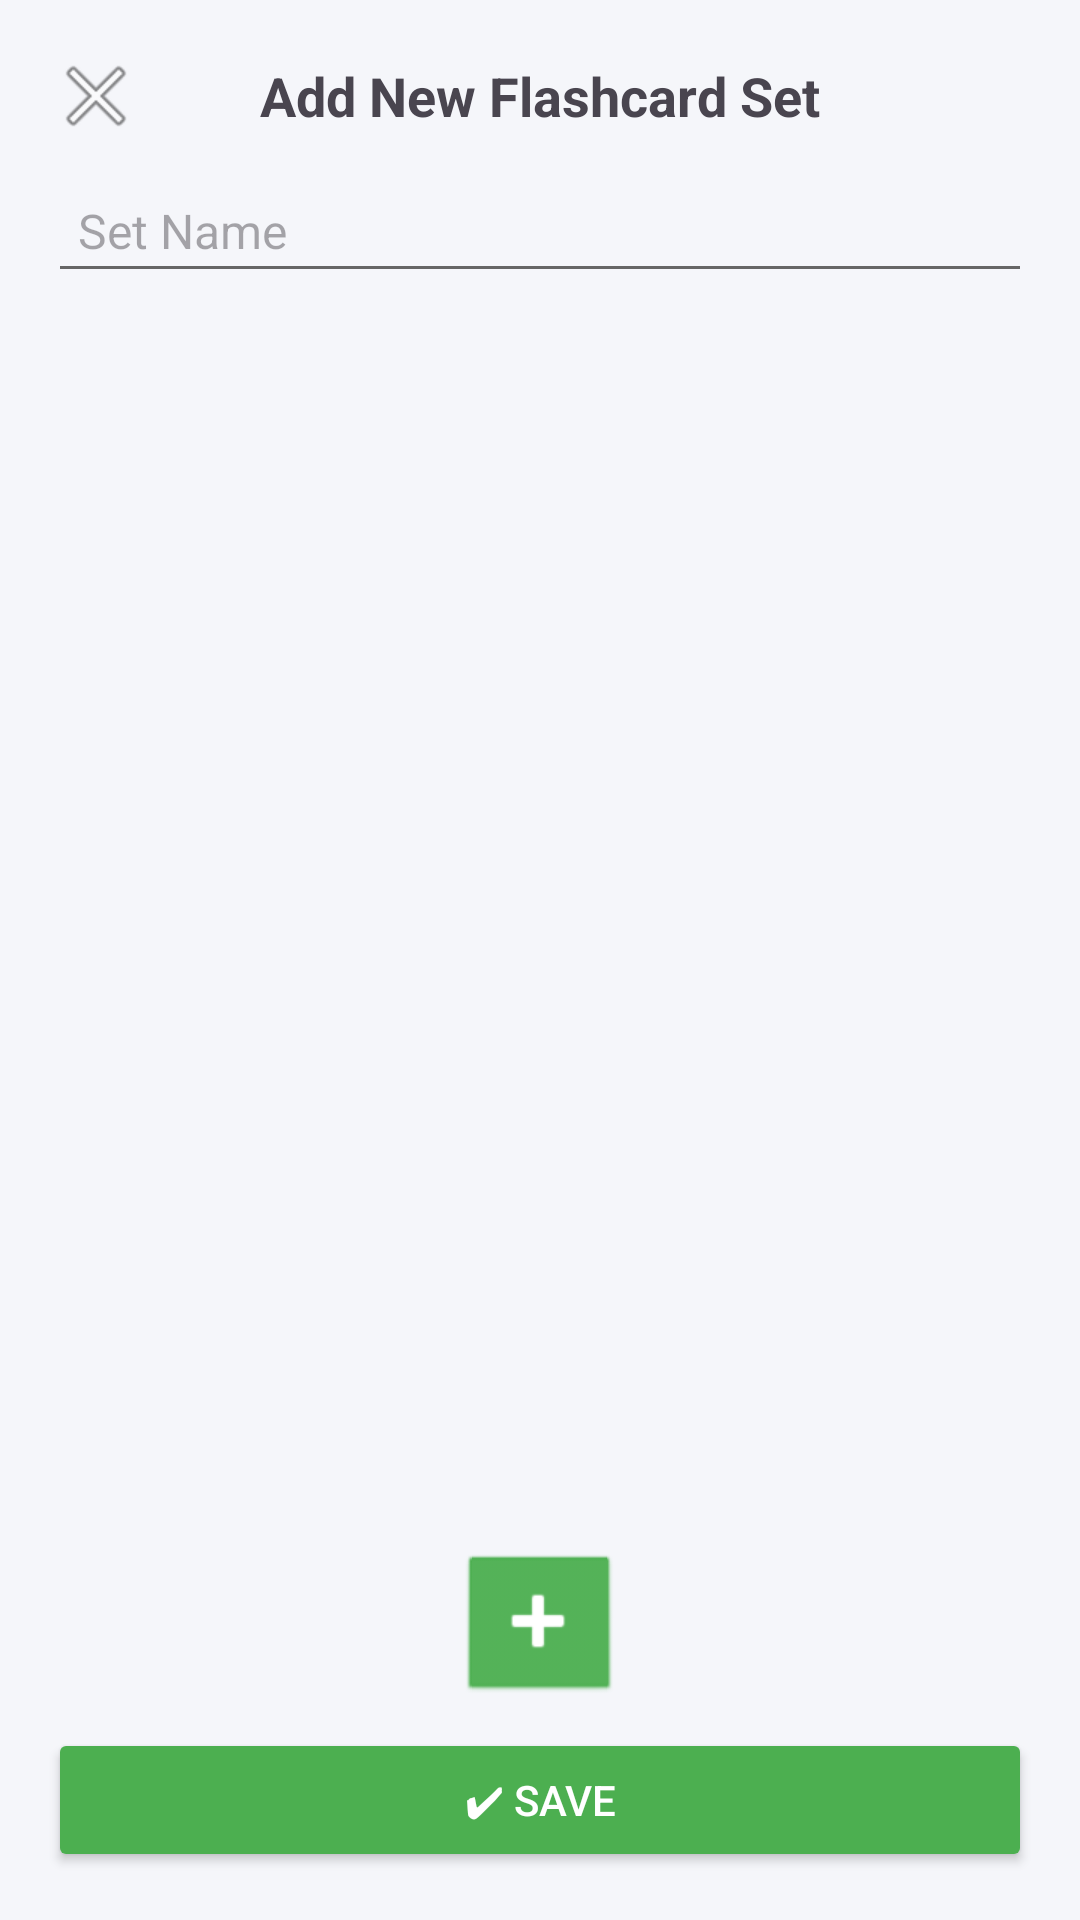

Locate icon controls on the screen. Image size 1080 x 1920, boxes as bbox(x1, y1, x2, y2).
Thêm flashcard: bbox(467, 1556, 611, 1690)
